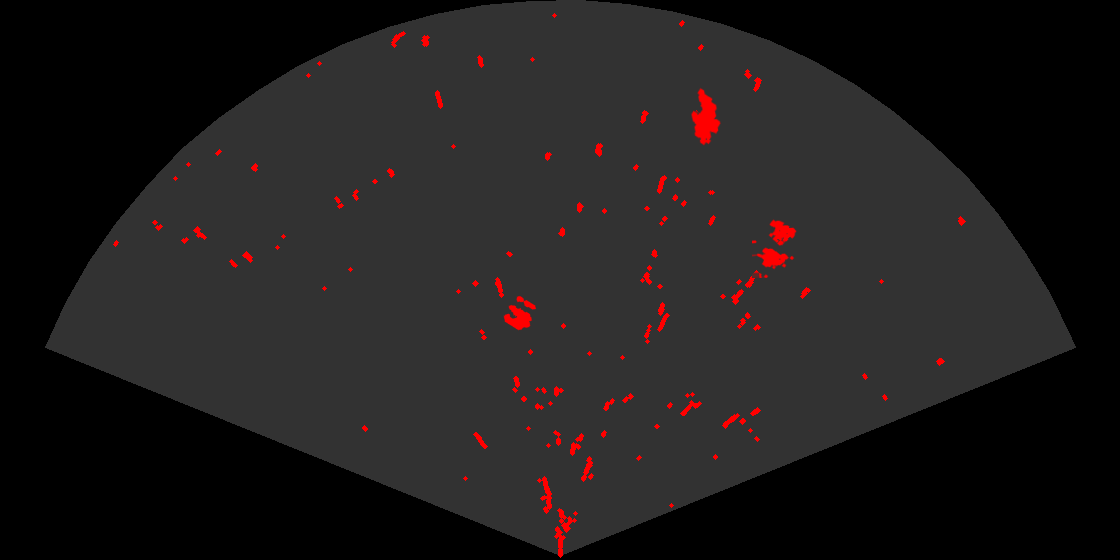AUV: (689, 86, 722, 147)
ball: (502, 294, 538, 332)
cage: (752, 218, 798, 278)
